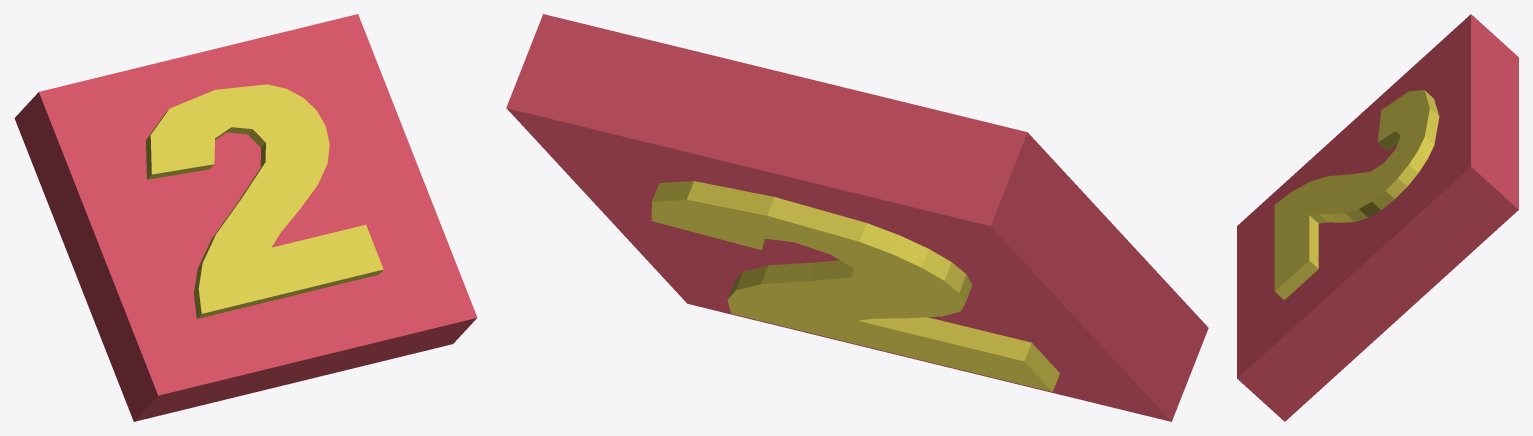
File: number2.glb
The picture shows the model from 3 angles, left to right: view 1: azimuth 30°, elevation 25°; view 2: azimuth 150°, elevation 25°; view 3: azimuth 270°, elevation 25°; orthographic projection. The views are drawn at different scales.
Visible parts, largest first — view 1: Mesh_Mesh_head_geo.001_lambert2SG.001; view 2: Mesh_Mesh_head_geo.001_lambert2SG.001; view 3: Mesh_Mesh_head_geo.001_lambert2SG.001.
Part boxes in pixels (bbox=[...]): Mesh_Mesh_head_geo.001_lambert2SG.001: bbox=[14, 14, 477, 421]; Mesh_Mesh_head_geo.001_lambert2SG.001: bbox=[506, 14, 1208, 421]; Mesh_Mesh_head_geo.001_lambert2SG.001: bbox=[1237, 14, 1518, 421].
Size of the model in its own units: 0.107 by 0.0834 by 0.0834.
